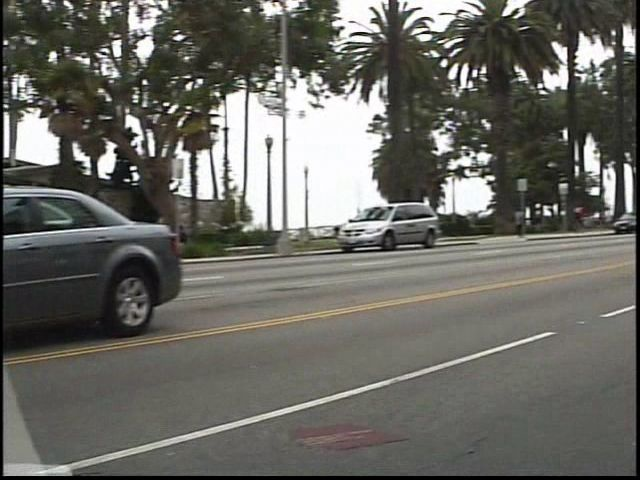person: (519, 201, 541, 240)
